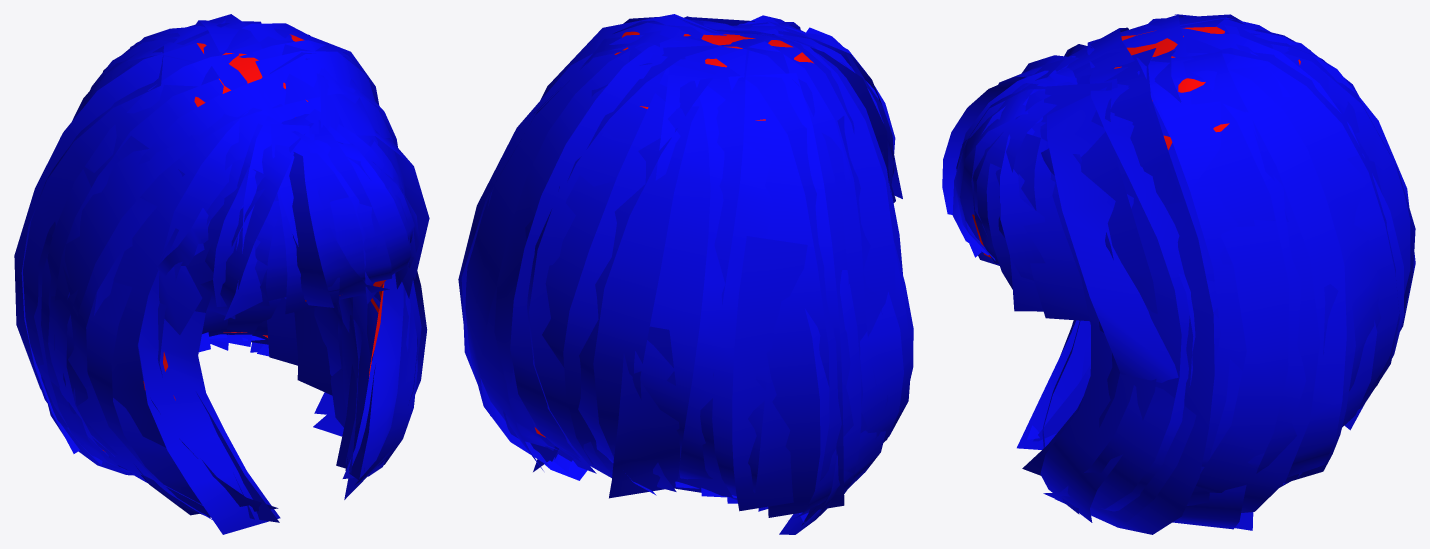
Rendered from hair_005.obj.
The picture shows the model from 3 angles, left to right: view 1: azimuth 30°, elevation 25°; view 2: azimuth 150°, elevation 25°; view 3: azimuth 270°, elevation 25°; orthographic projection. The views are drawn at different scales.
Bounding box in the file's own units: 25.9 × 28.94 × 27.6.
